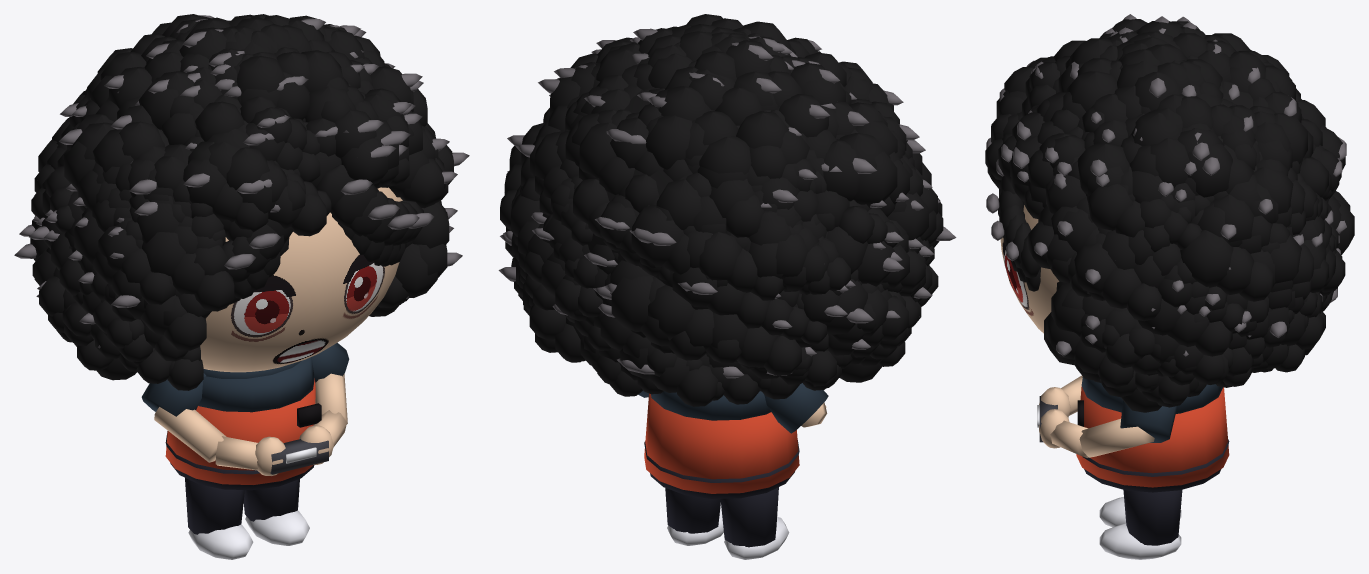
The model's file is character.glb.
The picture shows the model from 3 angles, left to right: view 1: azimuth 30°, elevation 25°; view 2: azimuth 150°, elevation 25°; view 3: azimuth 270°, elevation 25°; orthographic projection. The views are drawn at different scales.
Parts seen in each view (by area): view 1: Char_Hair, Char_HeadMesh, Char_HairShine, Char_ShirtNavy, Char_ShirtRed, Char_ArmLMesh, Char_LegLMesh, Char_ArmRMesh, Char_LegRMesh, Char_LegLShoe, Char_LegRShoe, Char_Belt (+1 smaller); view 2: Char_Hair, Char_HairShine, Char_ShirtRed, Char_ShirtNavy, Char_LegLMesh, Char_LegRMesh, Char_Belt, Char_LegLShoe, Char_LegRShoe; view 3: Char_Hair, Char_HairShine, Char_ShirtRed, Char_ArmRMesh, Char_LegRMesh, Char_ShirtNavy, Char_HeadMesh, Char_LegRShoe, Char_Belt, Char_ArmLMesh, Char_LegLShoe.
Part boxes in pixels (<box>): Char_Hair: <box>30,14,453,390</box>; Char_HeadMesh: <box>200,187,402,372</box>; Char_HairShine: <box>14,15,469,348</box>; Char_ShirtNavy: <box>141,342,349,416</box>; Char_ShirtRed: <box>165,378,315,484</box>; Char_ArmLMesh: <box>154,407,285,475</box>; Char_LegLMesh: <box>185,478,244,534</box>; Char_ArmRMesh: <box>299,373,347,464</box>; Char_LegRMesh: <box>243,479,299,521</box>; Char_LegLShoe: <box>188,524,253,559</box>; Char_LegRShoe: <box>245,510,309,545</box>; Char_Belt: <box>165,431,314,490</box>; Char_Hair: <box>500,14,943,406</box>; Char_HairShine: <box>498,28,956,378</box>; Char_ShirtRed: <box>644,393,799,493</box>; Char_ShirtNavy: <box>638,383,828,433</box>; Char_LegLMesh: <box>720,487,778,547</box>; Char_LegRMesh: <box>665,488,720,533</box>; Char_Belt: <box>644,440,799,498</box>; Char_LegLShoe: <box>724,517,789,559</box>; Char_LegRShoe: <box>667,503,723,545</box>; Char_Hair: <box>985,19,1354,412</box>; Char_HairShine: <box>986,14,1346,356</box>; Char_ShirtRed: <box>1076,386,1229,487</box>; Char_ArmRMesh: <box>1039,409,1154,457</box>; Char_LegRMesh: <box>1123,490,1182,545</box>; Char_ShirtNavy: <box>1081,377,1222,442</box>; Char_HeadMesh: <box>1000,205,1059,333</box>; Char_LegRShoe: <box>1099,523,1181,559</box>; Char_Belt: <box>1082,439,1229,492</box>; Char_ArmLMesh: <box>1039,375,1082,417</box>; Char_LegLShoe: <box>1099,497,1181,527</box>.
Size of the model in its own units: 2.92 by 3.65 by 2.41.
11 materials, 1 textured.
